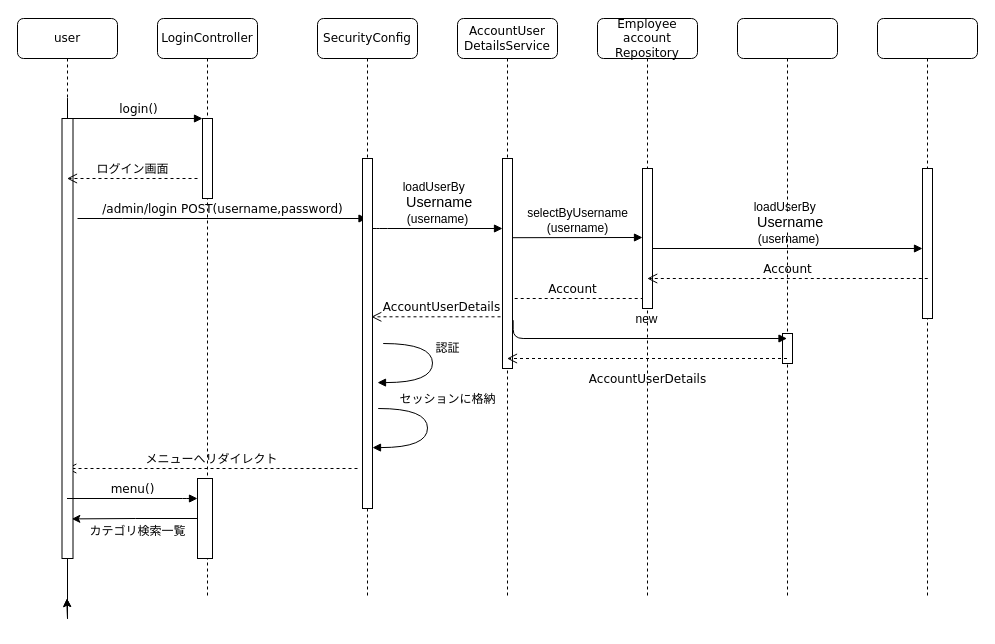
Some shapes in this 995 by 644 pixel diagram are drawn without their labels. The centre of each missing label's shape, as x and y in pixels:
"Account UserDetails" goes at point 787,308.
"DB" goes at point 927,308.
